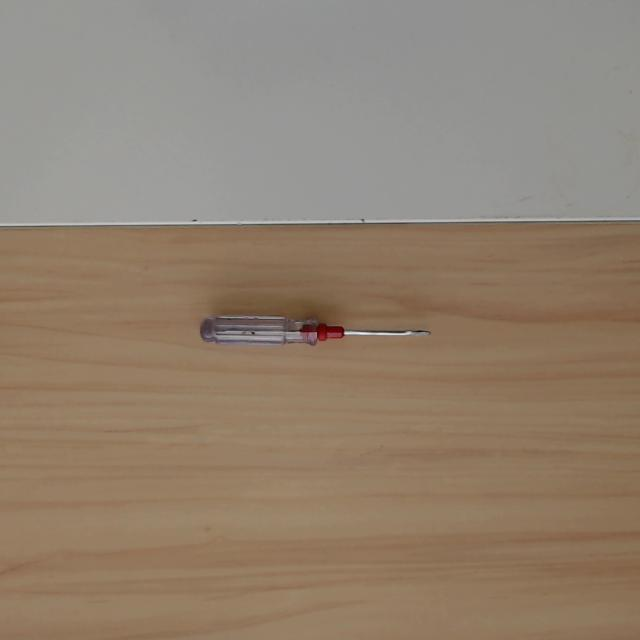Obeng-Kecil: (200, 315, 429, 348)
